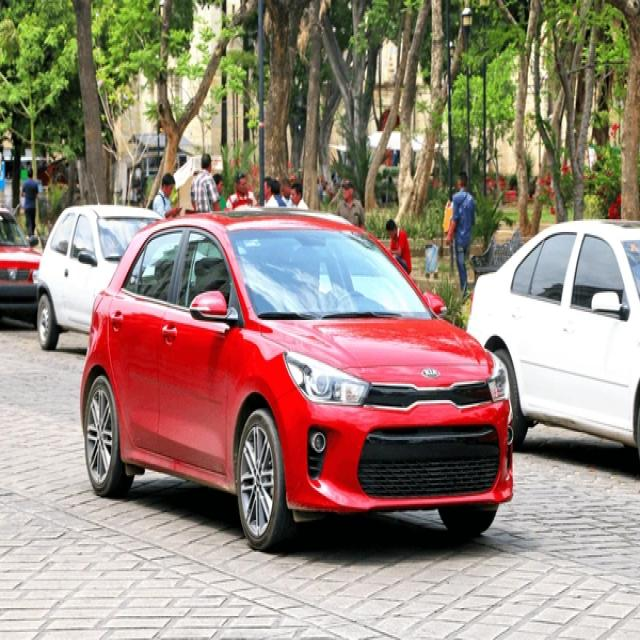kia: (419, 367, 442, 382)
